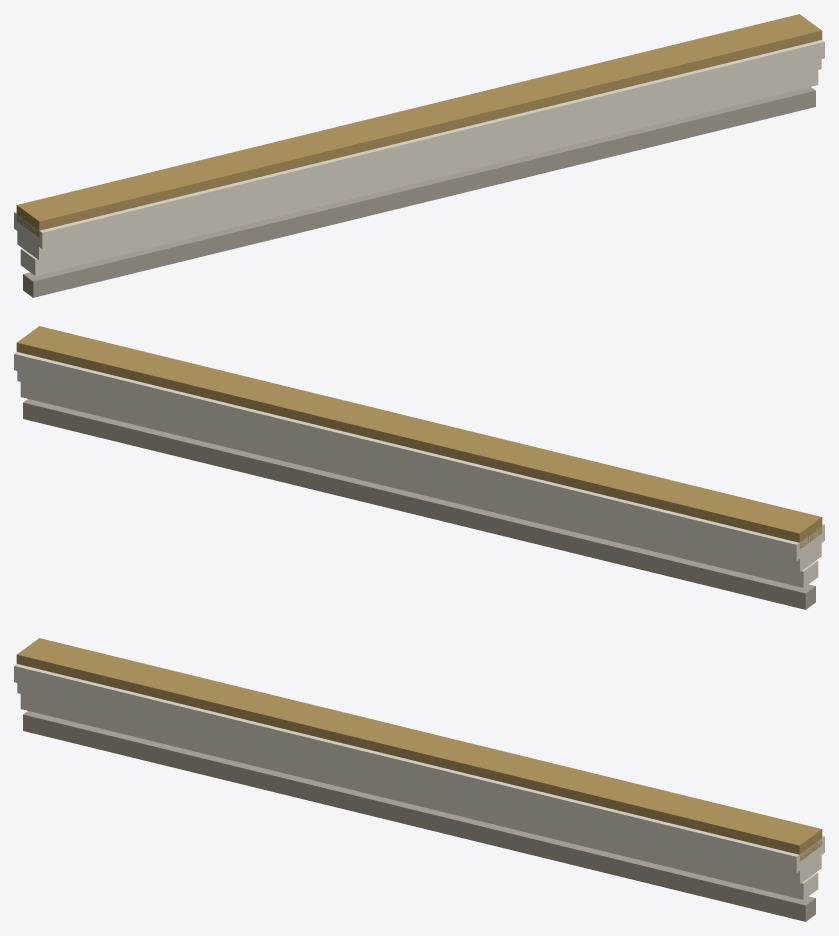
The model's file is VIC_A05_CORNICE_8_Roblox.fbx.
The picture shows the model from 3 angles, top to bottom: view 1: azimuth 30°, elevation 25°; view 2: azimuth 150°, elevation 25°; view 3: azimuth 330°, elevation 25°; orthographic projection.
Parts seen in each view (by area): view 1: VIC_A05_CORNICE_8__Ivory, VIC_A05_CORNICE_8__Brass, VIC_A05_CORNICE_8__Stone; view 2: VIC_A05_CORNICE_8__Ivory, VIC_A05_CORNICE_8__Brass, VIC_A05_CORNICE_8__Stone; view 3: VIC_A05_CORNICE_8__Ivory, VIC_A05_CORNICE_8__Brass, VIC_A05_CORNICE_8__Stone.
Part boxes in pixels (bbox=[...]): VIC_A05_CORNICE_8__Ivory: bbox=[14, 40, 824, 275]; VIC_A05_CORNICE_8__Brass: bbox=[16, 14, 822, 237]; VIC_A05_CORNICE_8__Stone: bbox=[23, 87, 815, 297]; VIC_A05_CORNICE_8__Ivory: bbox=[14, 352, 824, 587]; VIC_A05_CORNICE_8__Brass: bbox=[16, 326, 822, 549]; VIC_A05_CORNICE_8__Stone: bbox=[23, 399, 815, 609]; VIC_A05_CORNICE_8__Ivory: bbox=[14, 664, 824, 899]; VIC_A05_CORNICE_8__Brass: bbox=[16, 638, 822, 861]; VIC_A05_CORNICE_8__Stone: bbox=[23, 711, 815, 921].
Bounding box in the file's own units: 8 × 0.79 × 0.5.
